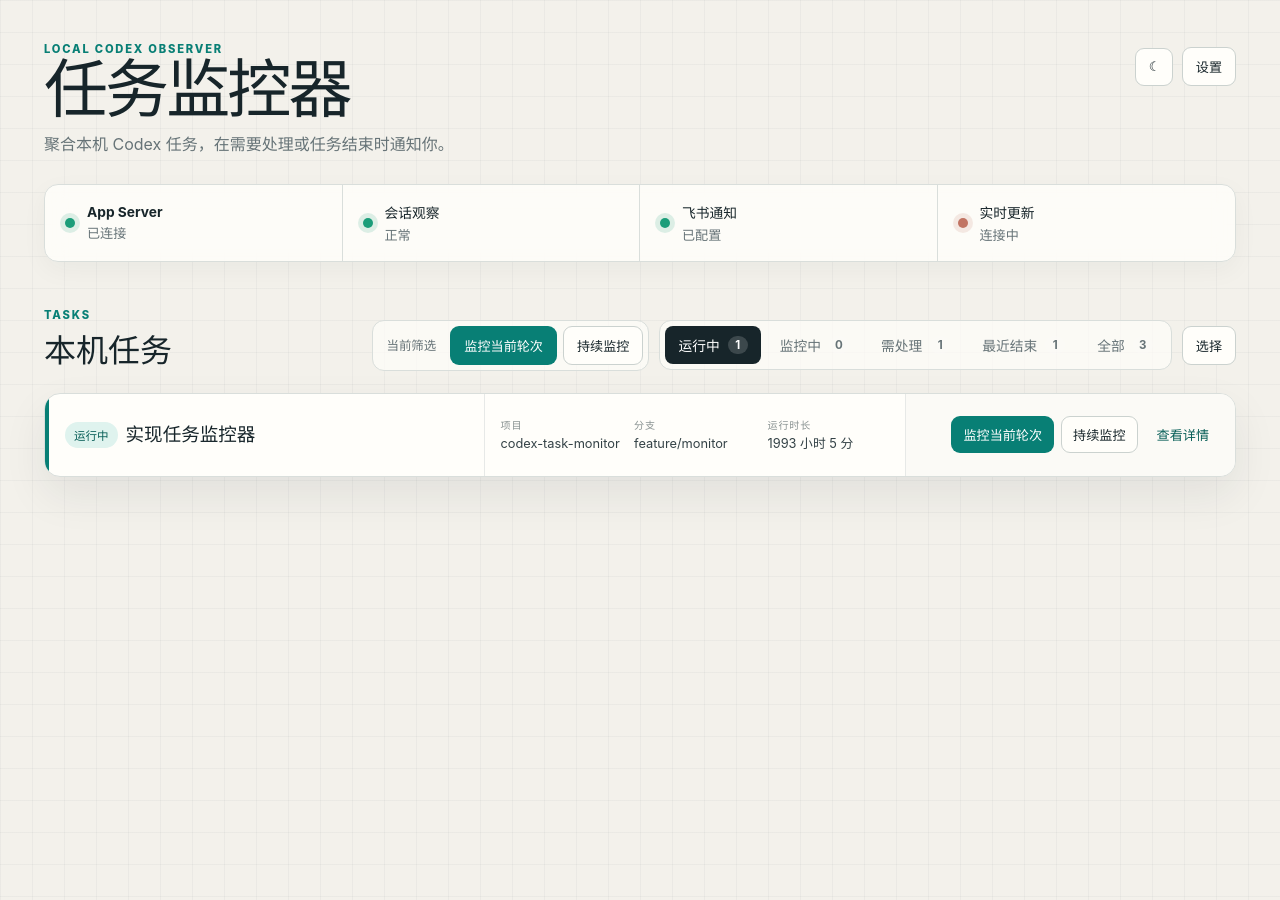
Test: 任务监控主页面 › 手动结束失败时显示错误并恢复按钮
Right-click the element with class "task-card": (640, 435) [44,393,1236,477]
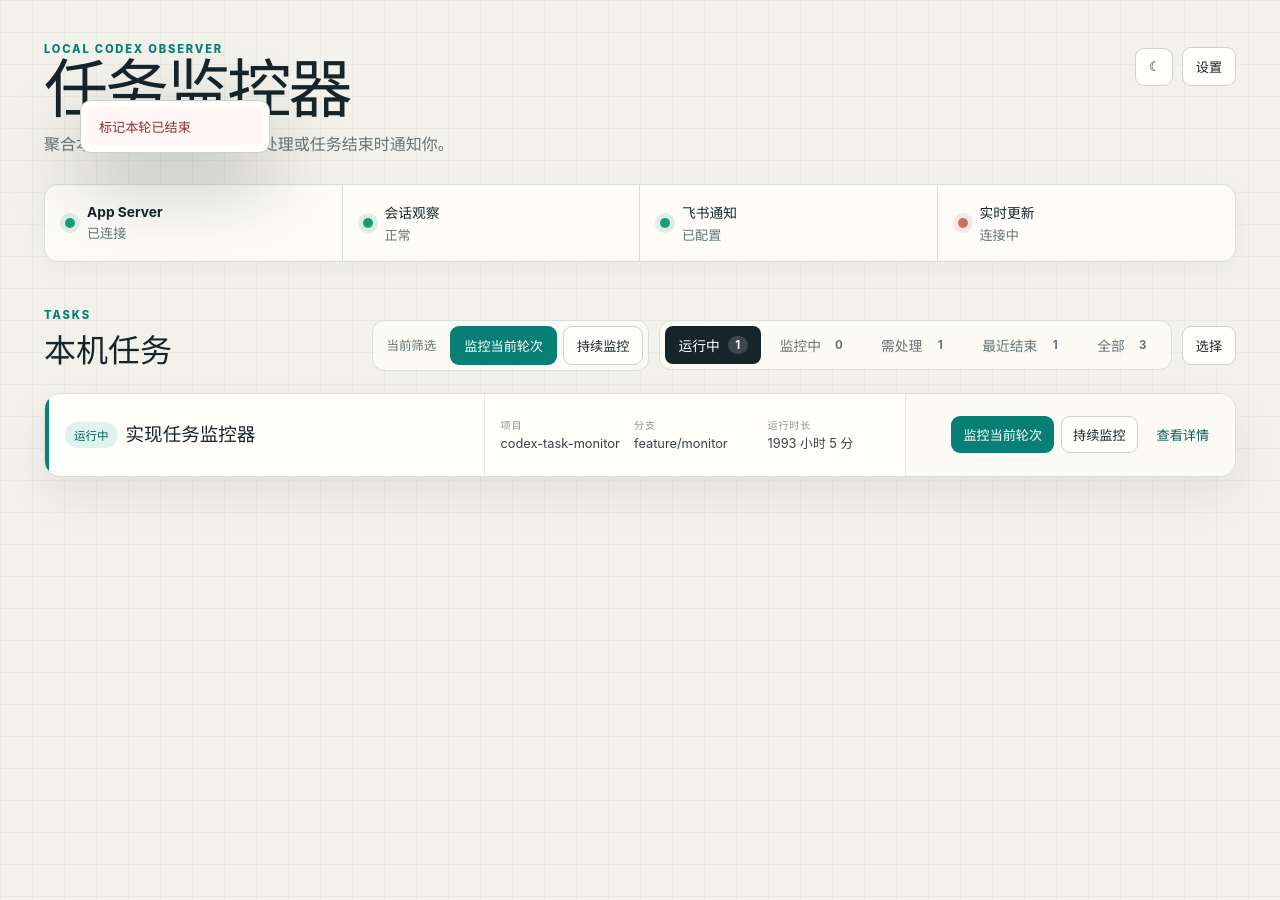
Click the menu item "标记本轮已结束": (175, 126) [87,107,263,146]
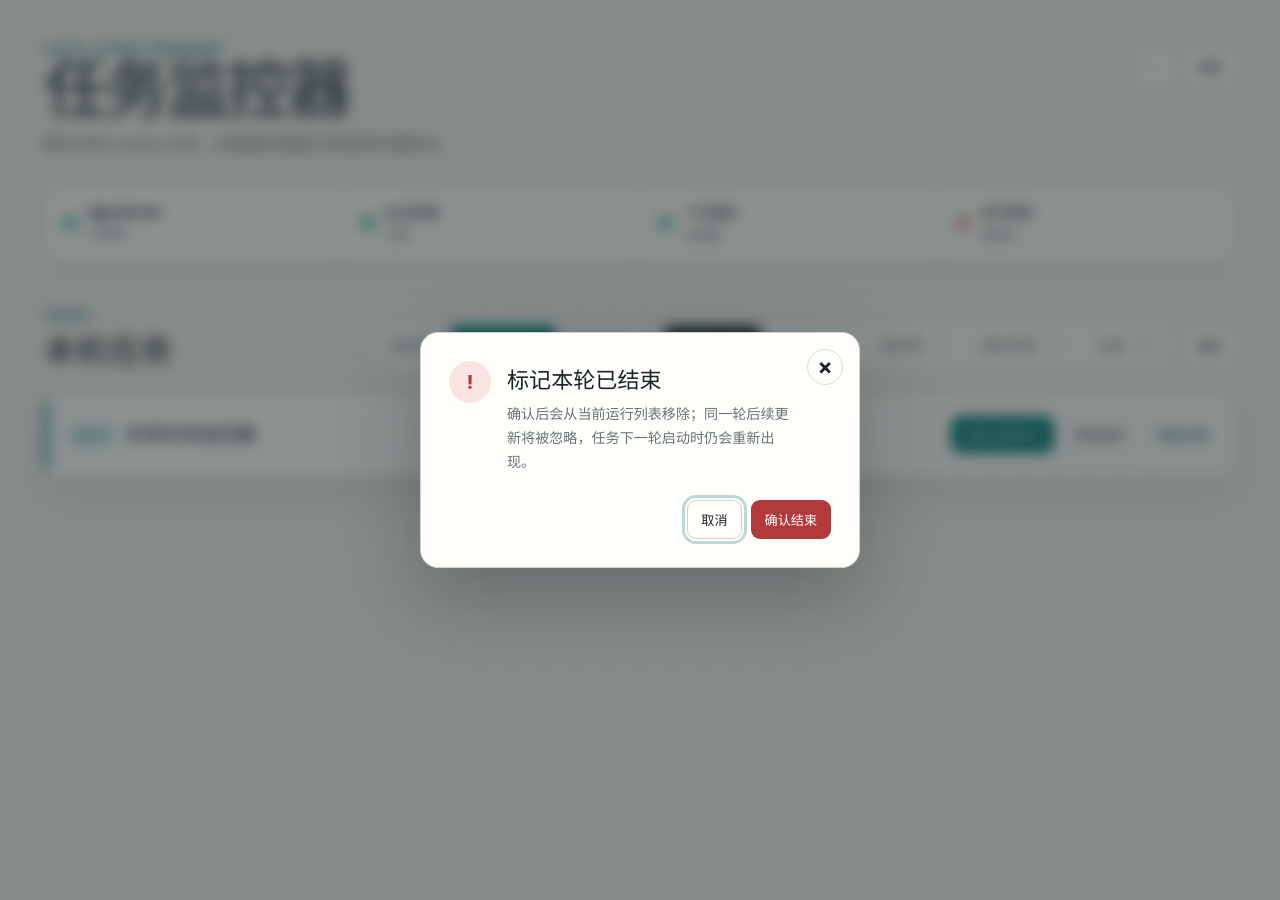
Click the button "确认结束": (791, 519) [750,500,831,539]
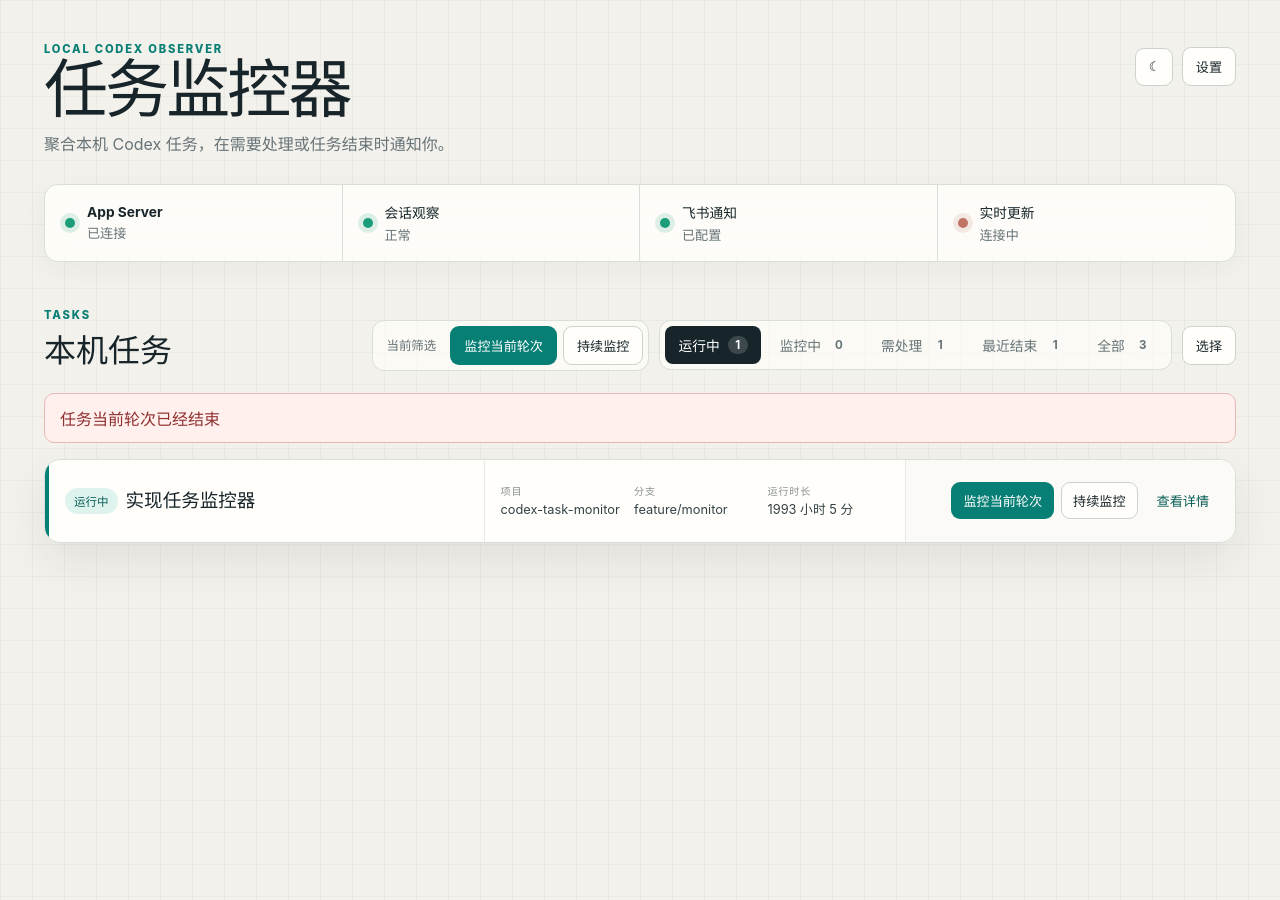
expect the message "任务当前轮次已经结束" is shown: met, box [44,393,1236,443]
Right-click the element with class "task-card": (640, 501) [44,459,1236,543]
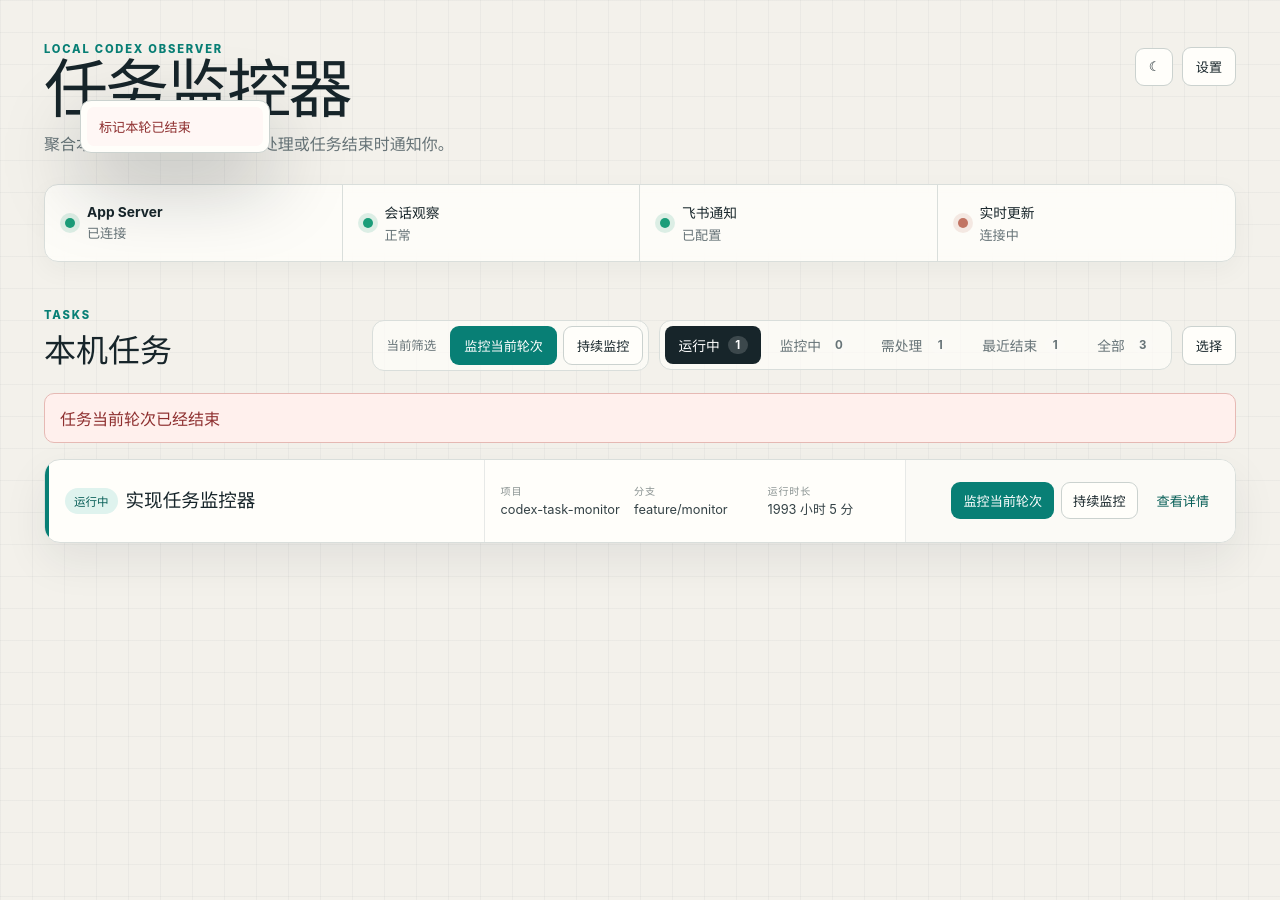
expect the menu item "标记本轮已结束" is enabled: met, box [87,107,263,146]
